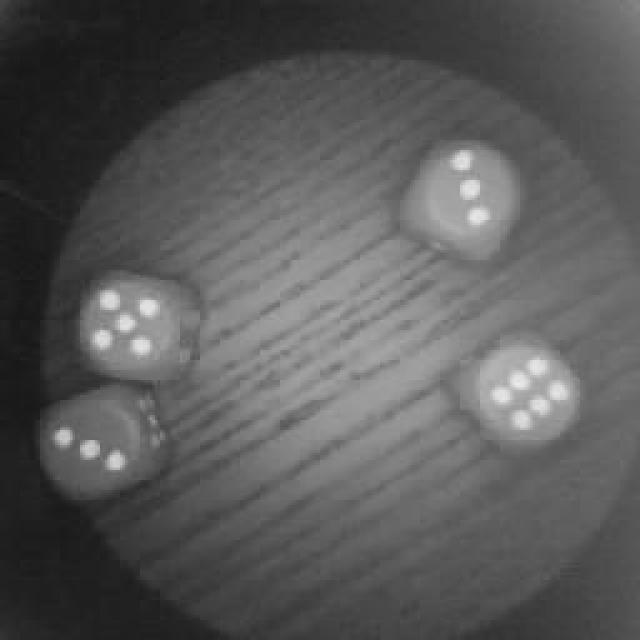dice_3: (35, 378, 170, 508), (402, 130, 530, 260)
dice_5: (77, 260, 205, 390)
dice_6: (450, 330, 592, 458)
